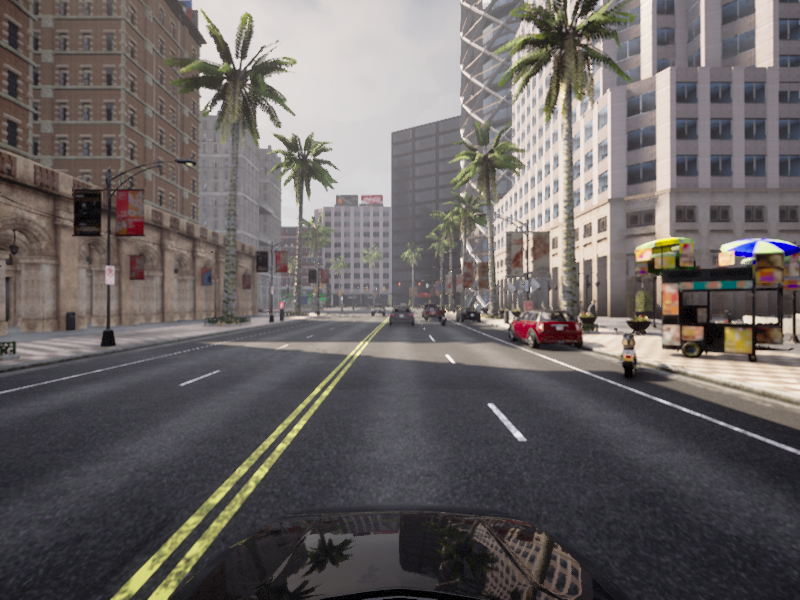vehicle: (388, 305, 415, 326), (422, 305, 443, 320), (437, 306, 448, 326)
